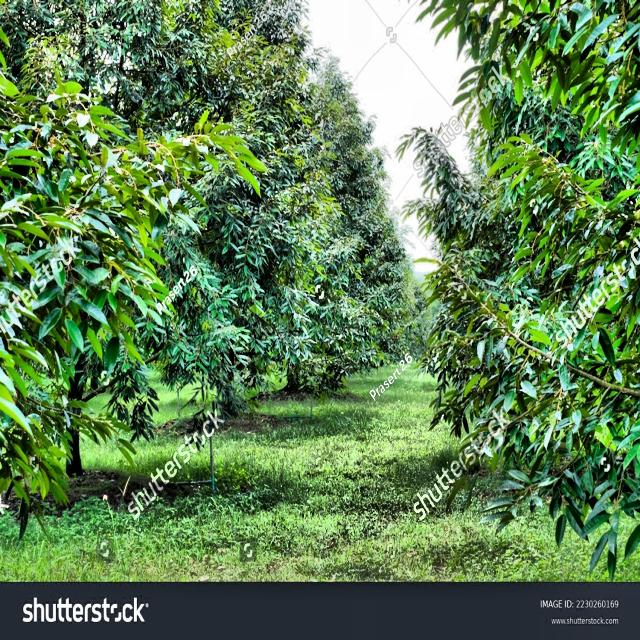arvore: (53, 263, 93, 490)
